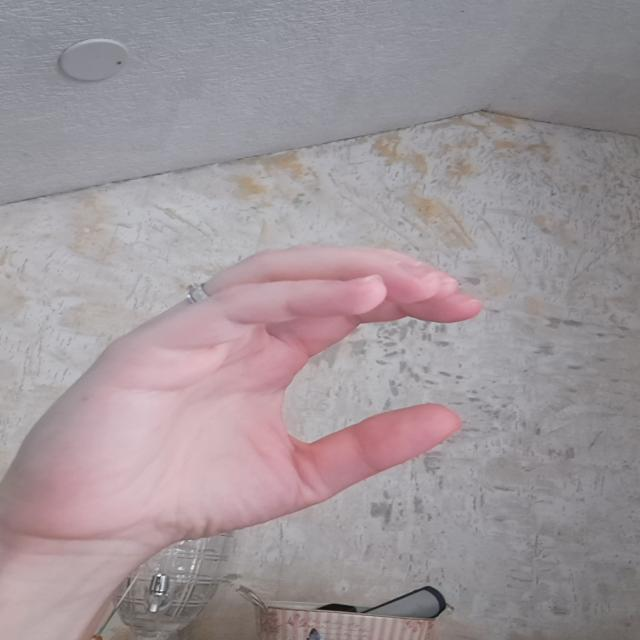C: (18, 233, 505, 540)
